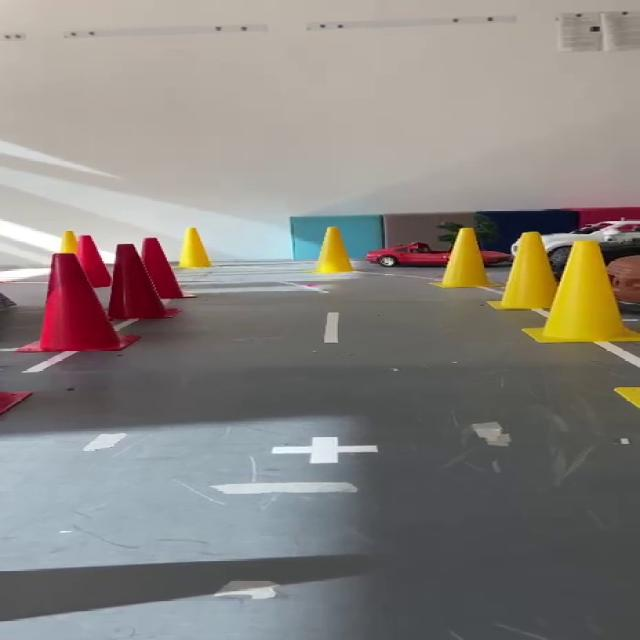Cone-red: (19, 245, 178, 351), (142, 238, 189, 299), (76, 235, 110, 288), (0, 392, 30, 415)
Cones-yellow: (523, 241, 639, 343), (491, 232, 556, 309), (441, 228, 490, 287), (313, 227, 353, 274), (179, 228, 211, 268), (617, 388, 639, 408), (57, 230, 74, 254)
